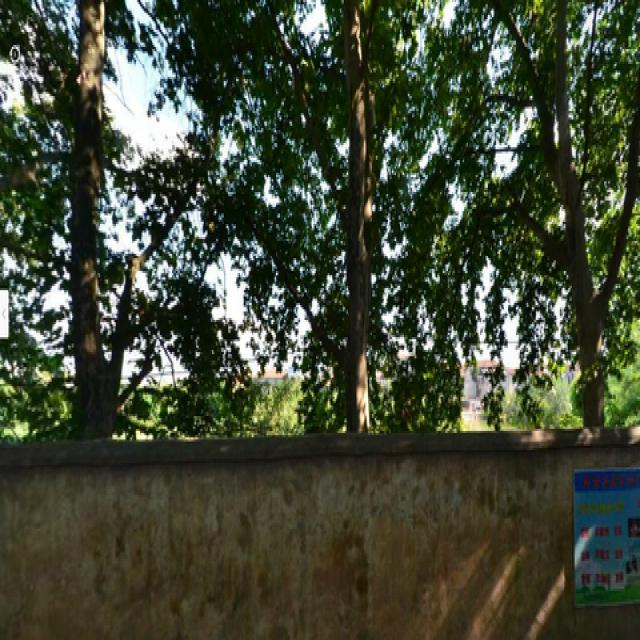meta: (243, 23, 388, 412), (514, 51, 622, 429), (28, 36, 125, 388)
